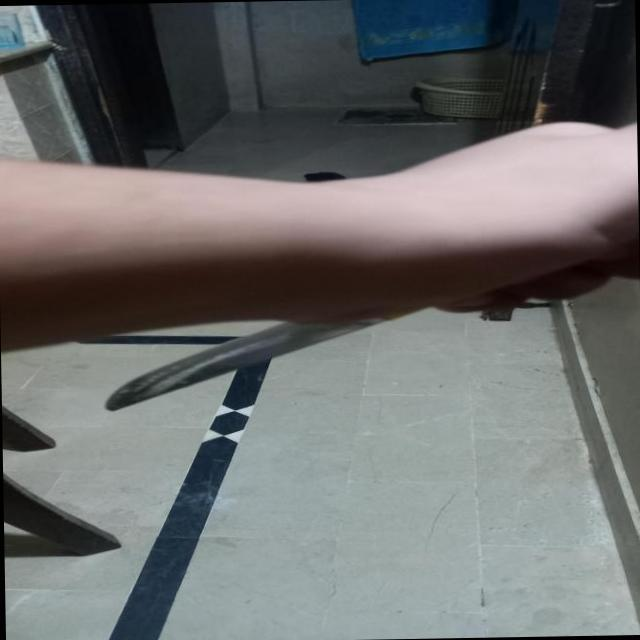Knife: (96, 284, 520, 424)
